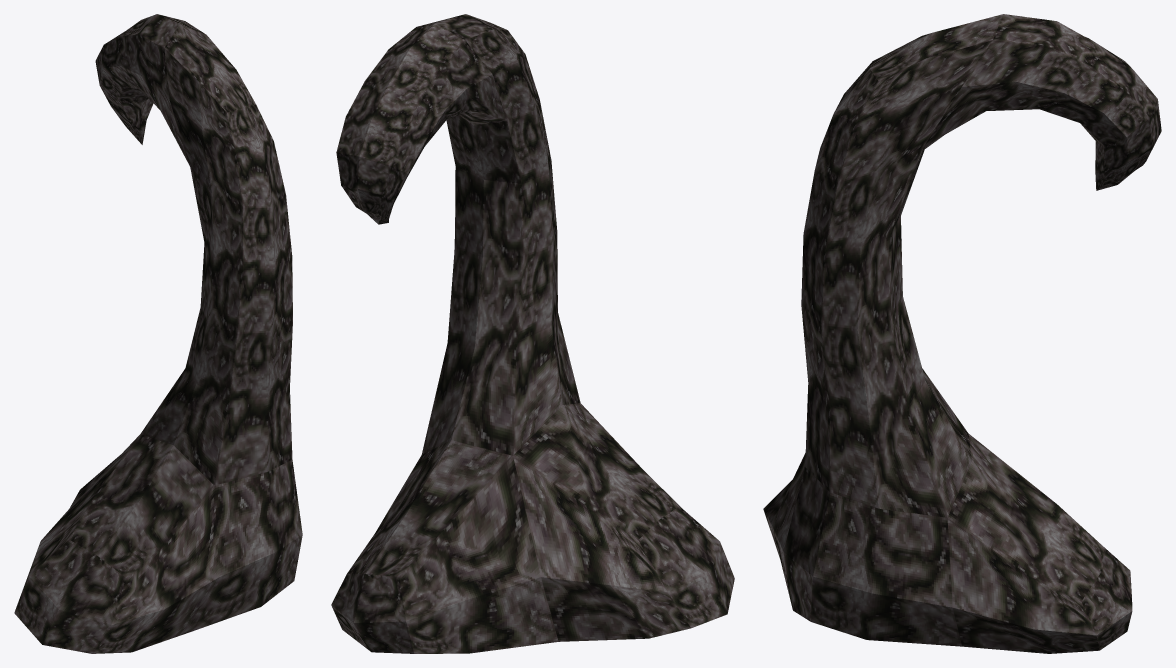
The model's file is Gut_2.fbx.
3 views of the same model, side by side, from view 1: azimuth 30°, elevation 25°; view 2: azimuth 150°, elevation 25°; view 3: azimuth 270°, elevation 25° (orthographic). The views are drawn at different scales.
Visible parts, largest first — view 1: Cube; view 2: Cube; view 3: Cube.
Boxes of the visible parts, <box> form: Cube: <box>14,14,302,653</box>; Cube: <box>331,14,734,653</box>; Cube: <box>763,14,1161,653</box>.
Bounding box in the file's own units: 470 × 931 × 533.
1 material, 1 textured.
